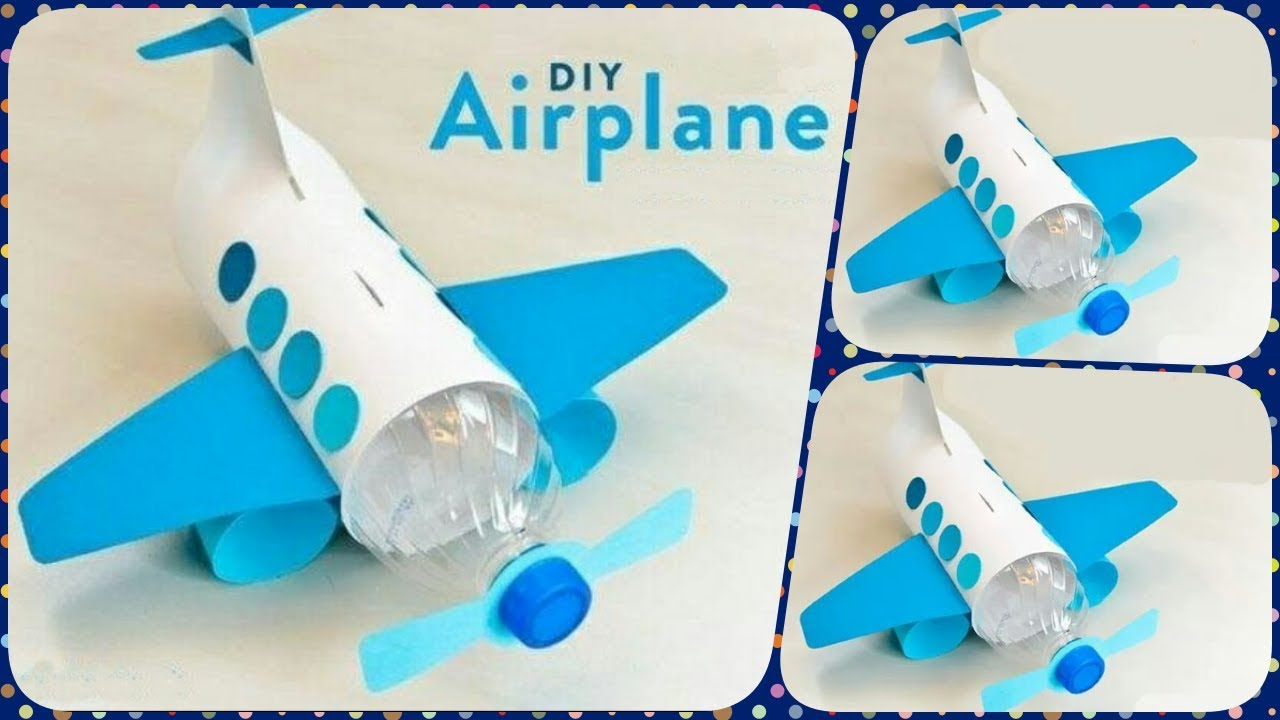plastic_bottle: (117, 21, 727, 671), (813, 347, 1182, 720), (870, 8, 1222, 375)
